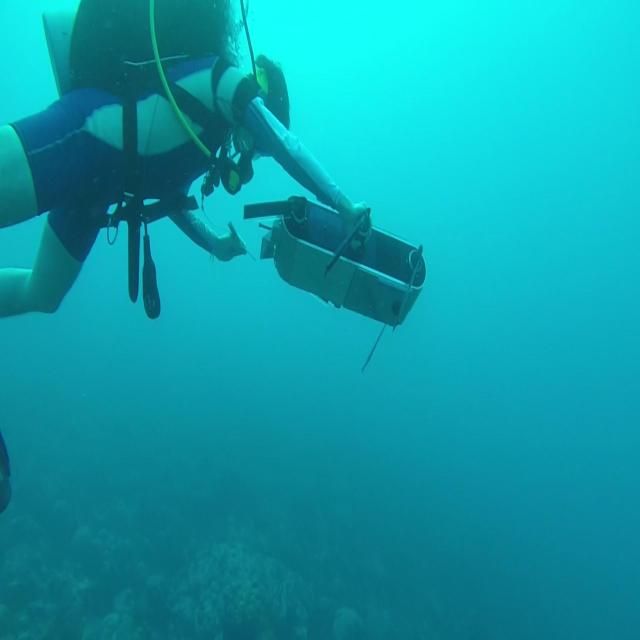human: (0, 0, 373, 322)
